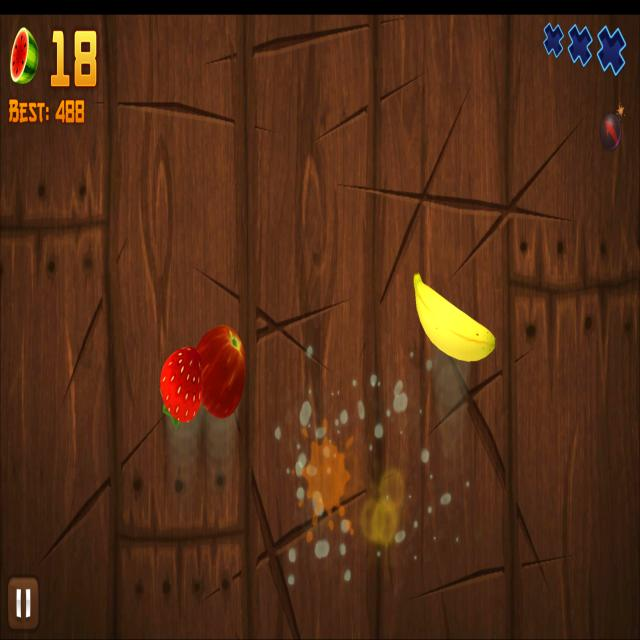fruit: (412, 271, 497, 361), (195, 325, 248, 419), (160, 346, 202, 422)
